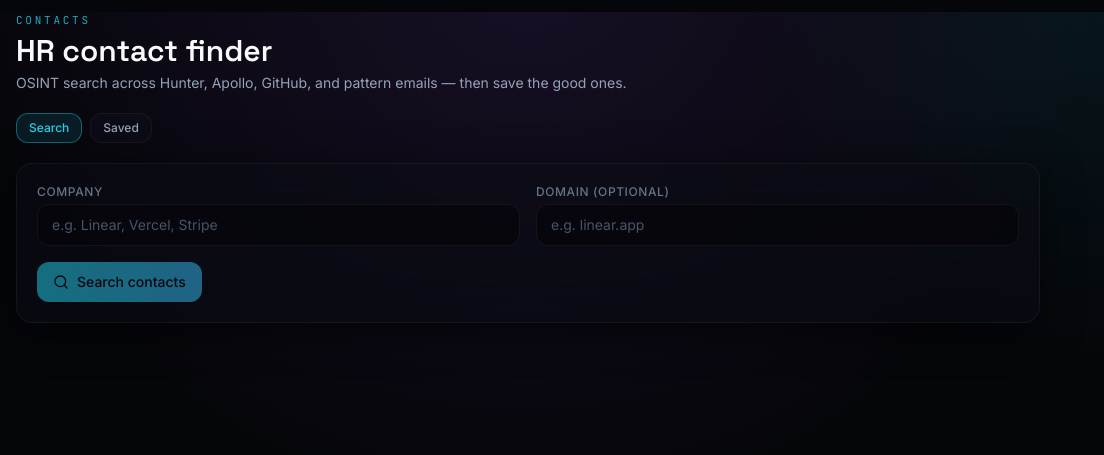
Test: ContactsPage › renders the contact finder and searches by company
expect the heading "HR contact finder" is shown: met, box x1=16 y1=30 x2=272 y2=70
In the field with placeholder "e.g. Linear, Vercel, Stripe": [278, 224] box x1=37 y1=204 x2=520 y2=246, type "Stripe"
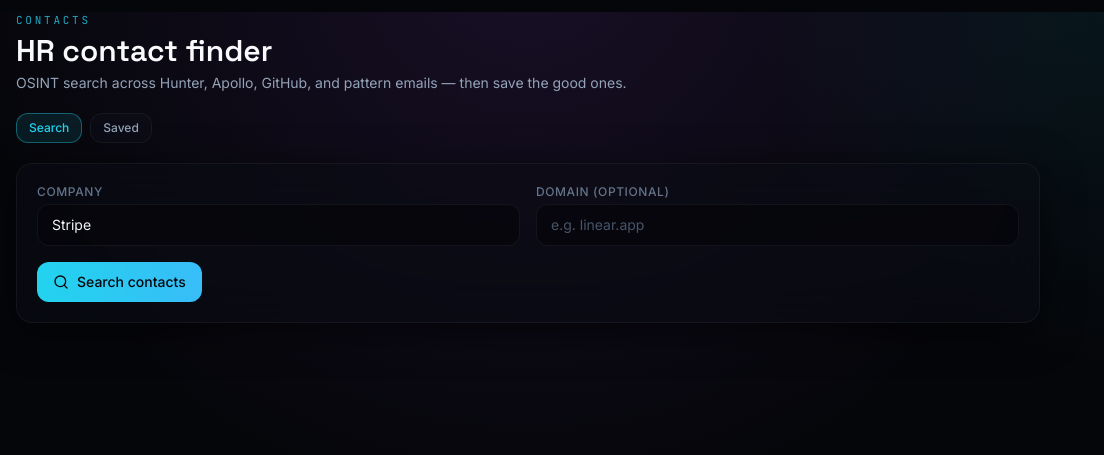
Click the button "Search contacts": [119, 282] box x1=37 y1=262 x2=202 y2=302
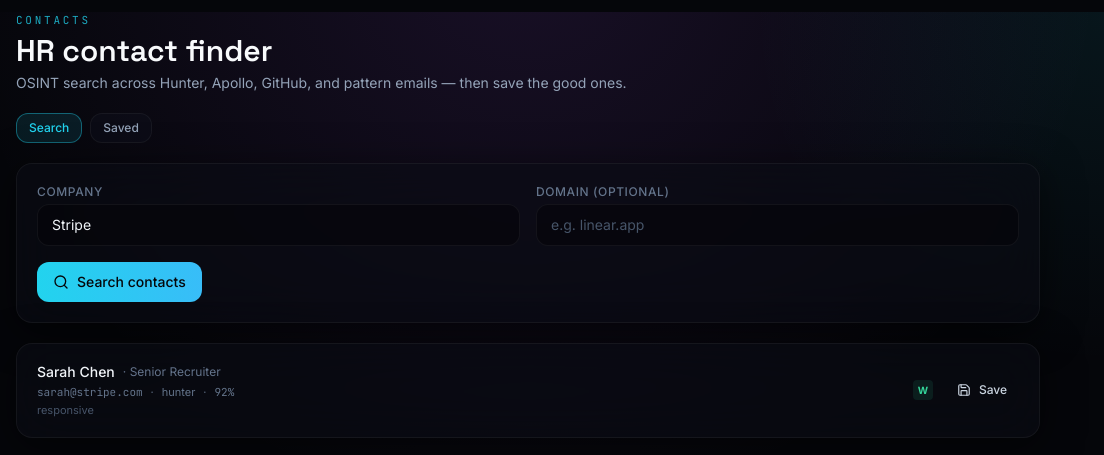
expect the text "Sarah Chen" is shown: met, box x1=37 y1=362 x2=115 y2=382
expect the text "92%" is shown: met, box x1=214 y1=384 x2=234 y2=400
